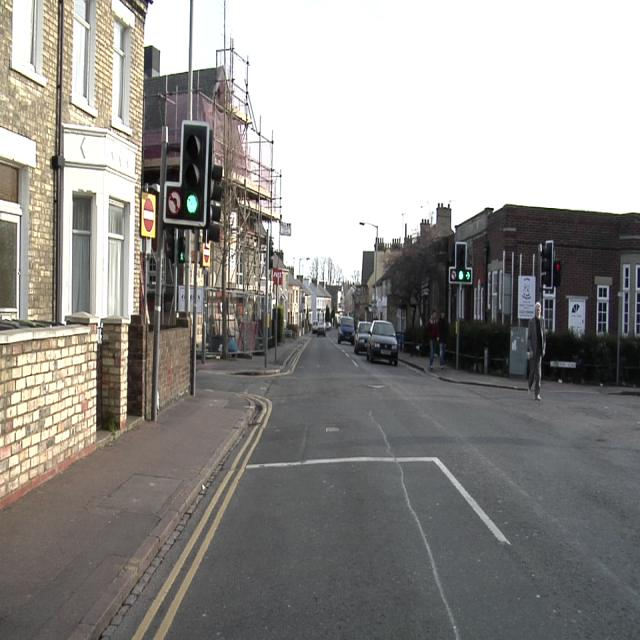Building: (0, 0, 152, 506), (192, 42, 332, 358), (349, 204, 639, 353), (142, 47, 189, 192), (162, 227, 190, 322)
Car: (367, 322, 398, 364), (355, 322, 371, 351), (338, 317, 355, 343)
Road: (102, 336, 638, 637)
person: (528, 315, 542, 399), (439, 312, 450, 368), (428, 320, 439, 366)
